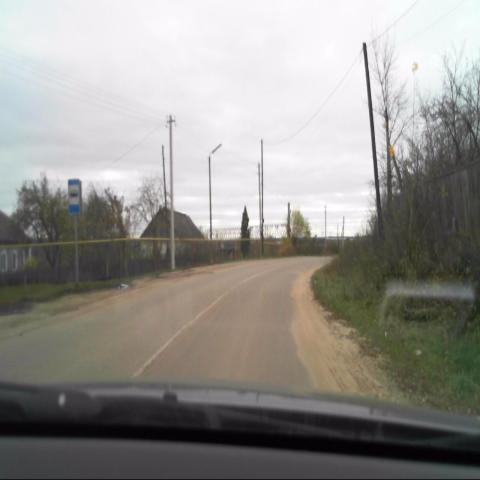5_16: (67, 177, 83, 215)
